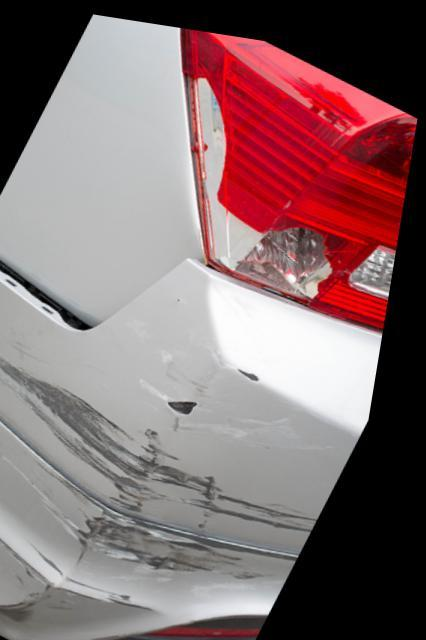lamp broken: (181, 22, 419, 318)
scratch: (0, 324, 354, 525), (0, 414, 316, 626)
